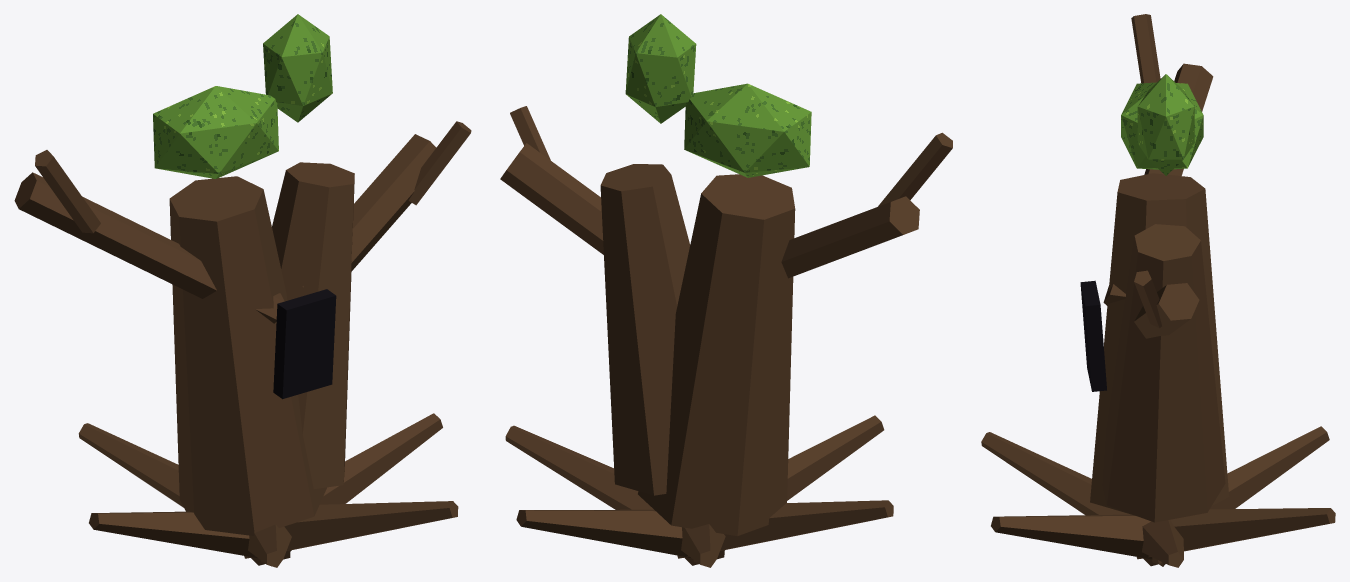
File: root_walker_lowpoly.glb
3 views of the same model, side by side, from view 1: azimuth 30°, elevation 25°; view 2: azimuth 150°, elevation 25°; view 3: azimuth 270°, elevation 25° (orthographic). The views are drawn at different scales.
Visible parts, largest first — view 1: split_trunk_left, split_trunk_right, dead_crown_left, long_branch_arm, hollow_heart, dead_crown_high, splayed_root_5, short_branch_arm, splayed_root_3, splayed_root_0, splayed_root_2, long_branch_finger (+2 smaller); view 2: split_trunk_left, split_trunk_right, dead_crown_left, dead_crown_high, long_branch_arm, short_branch_arm, splayed_root_1, splayed_root_3, splayed_root_0, splayed_root_4, long_branch_finger, splayed_root_2 (+1 smaller); view 3: split_trunk_right, split_trunk_left, splayed_root_5, splayed_root_1, dead_crown_high, splayed_root_4, splayed_root_2, dead_crown_left, hollow_heart, short_branch_arm, splayed_root_0, long_branch_arm (+2 smaller).
Boxes of the visible parts, <box> form: split_trunk_left: <box>169,176,326,535</box>; split_trunk_right: <box>272,162,354,488</box>; dead_crown_left: <box>153,86,278,178</box>; long_branch_arm: <box>14,172,284,323</box>; hollow_heart: <box>273,289,336,399</box>; dead_crown_high: <box>263,14,332,122</box>; splayed_root_5: <box>244,501,458,558</box>; short_branch_arm: <box>302,134,436,287</box>; splayed_root_3: <box>89,511,291,557</box>; splayed_root_0: <box>260,413,442,562</box>; splayed_root_2: <box>78,423,271,566</box>; long_branch_finger: <box>35,150,100,233</box>; split_trunk_left: <box>638,174,795,536</box>; split_trunk_right: <box>600,164,690,495</box>; dead_crown_left: <box>684,83,811,177</box>; dead_crown_high: <box>625,14,696,123</box>; long_branch_arm: <box>781,196,919,278</box>; short_branch_arm: <box>500,143,603,254</box>; splayed_root_1: <box>516,509,724,557</box>; splayed_root_3: <box>677,500,893,558</box>; splayed_root_0: <box>505,425,653,509</box>; splayed_root_4: <box>693,415,884,562</box>; long_branch_finger: <box>878,132,952,206</box>; splayed_root_2: <box>681,524,725,567</box>; split_trunk_right: <box>1102,224,1225,522</box>; split_trunk_left: <box>1090,173,1229,515</box>; splayed_root_5: <box>991,514,1152,559</box>; splayed_root_1: <box>1136,508,1335,559</box>; dead_crown_high: <box>1137,74,1194,175</box>; splayed_root_4: <box>981,432,1165,566</box>; splayed_root_2: <box>1152,426,1329,564</box>; dead_crown_left: <box>1121,82,1203,169</box>; hollow_heart: <box>1080,280,1106,391</box>; short_branch_arm: <box>1134,283,1199,338</box>; splayed_root_0: <box>1142,520,1183,567</box>; long_branch_arm: <box>1103,63,1213,305</box>.
Size of what is drawn, in the model's own units: 2.5 by 2.93 by 1.86.
3 materials, 1 textured.
